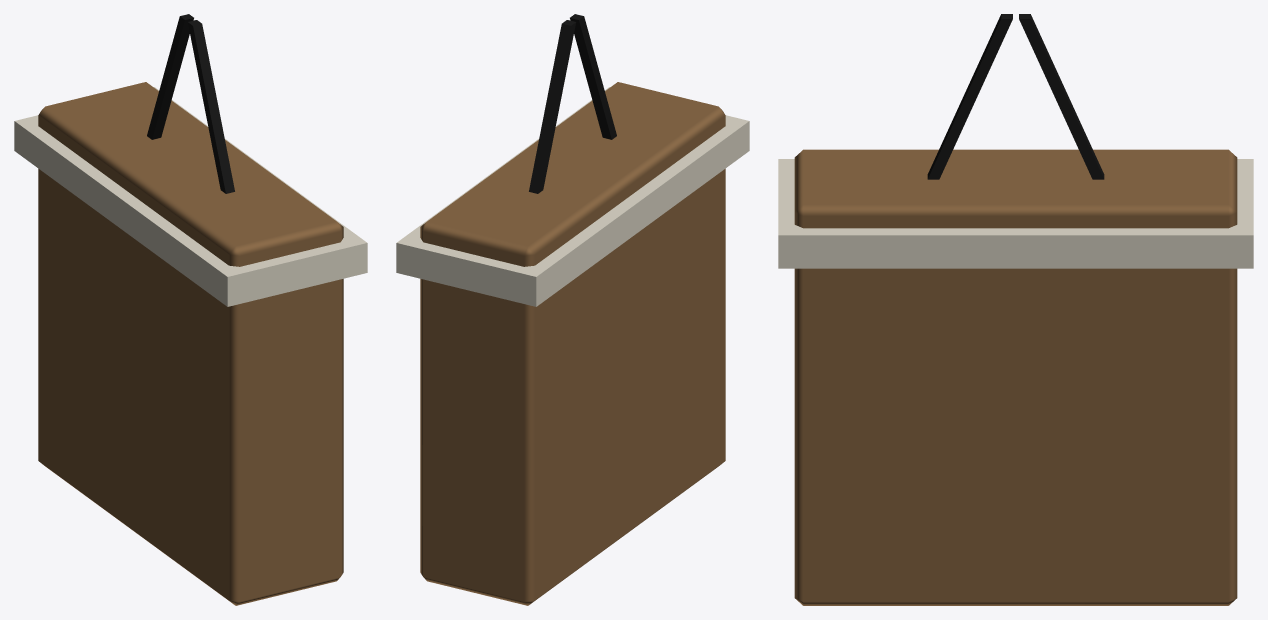
Rendered from bag.glb.
3 views of the same model, side by side, from view 1: azimuth 30°, elevation 25°; view 2: azimuth 150°, elevation 25°; view 3: azimuth 270°, elevation 25° (orthographic). The views are drawn at different scales.
Visible parts, largest first — view 1: Bag; view 2: Bag; view 3: Bag.
Boxes of the visible parts, x1,y1,x2,y2 form: Bag: [14, 14, 367, 605]; Bag: [396, 14, 749, 605]; Bag: [778, 14, 1253, 605].
Size of the model in its own units: 0.122 by 0.42 by 0.322.
